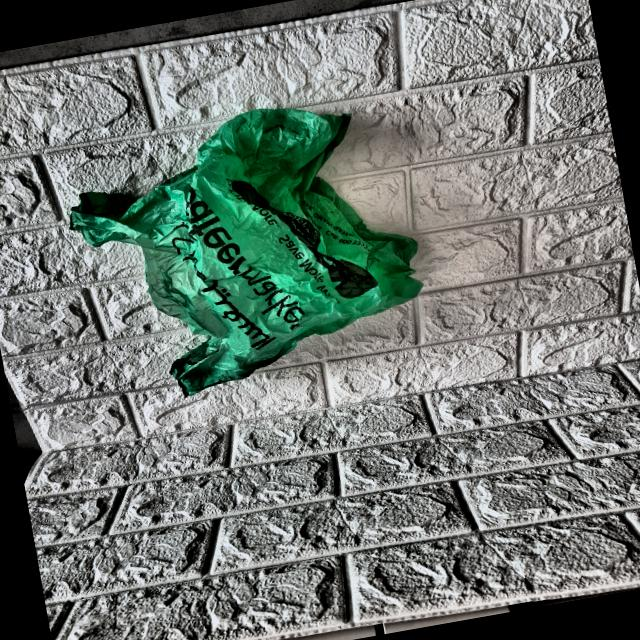plastic bag: (50, 88, 438, 414)
